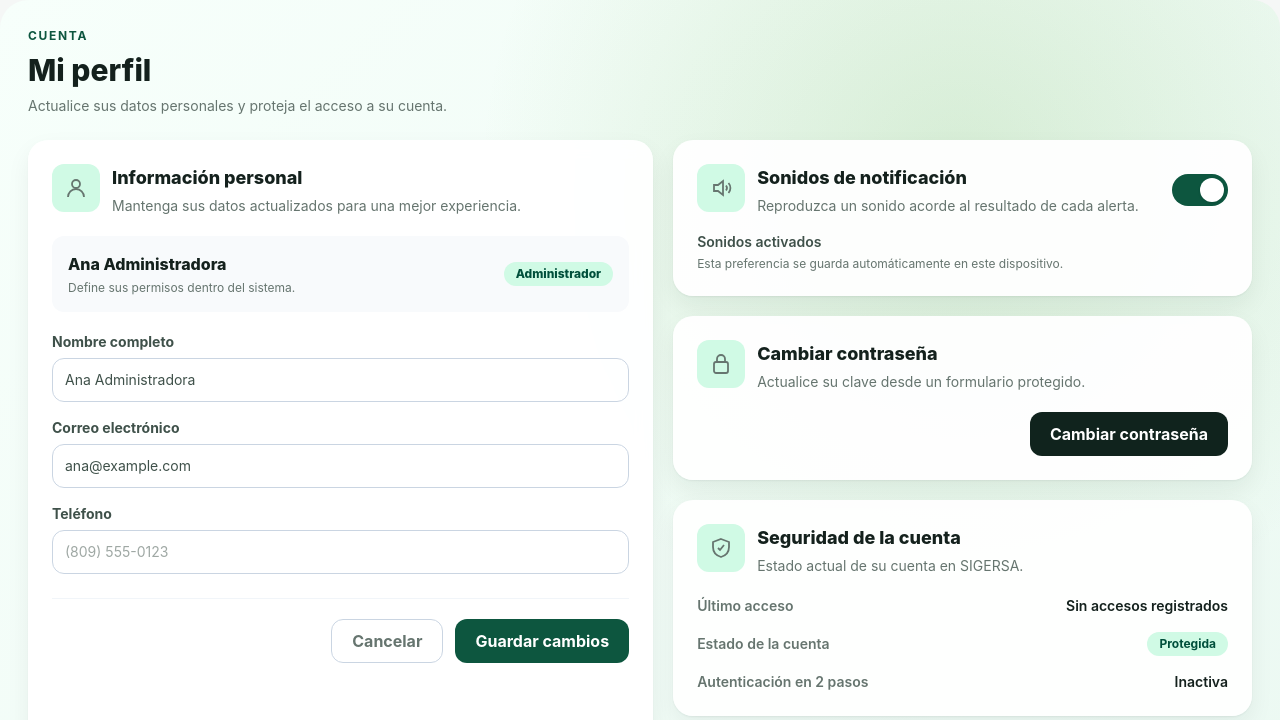
ProfileManagement › mantiene ocultos los campos de contraseña hasta pulsar el botón
Expected: the field showing "Ana Administradora" is shown, x1=52 y1=358 x2=629 y2=402
Click the button "Cambiar contraseña" at (1129, 434), box x1=1030 y1=412 x2=1228 y2=456
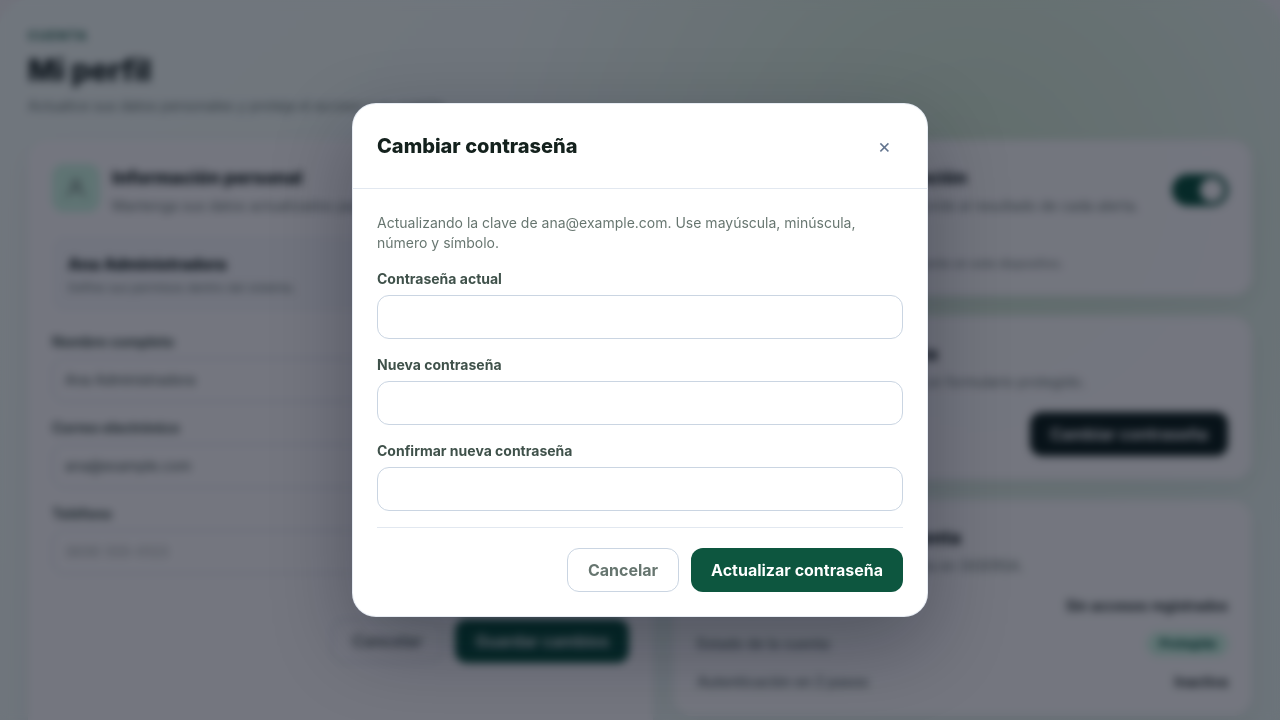
Expected: the dialog "Cambiar contraseña" is shown, x1=352 y1=103 x2=928 y2=617
Expected: the password field labelled "Contraseña actual" is shown, x1=377 y1=295 x2=903 y2=339
Expected: the password field labelled "Nueva contraseña" is shown, x1=377 y1=381 x2=903 y2=425
